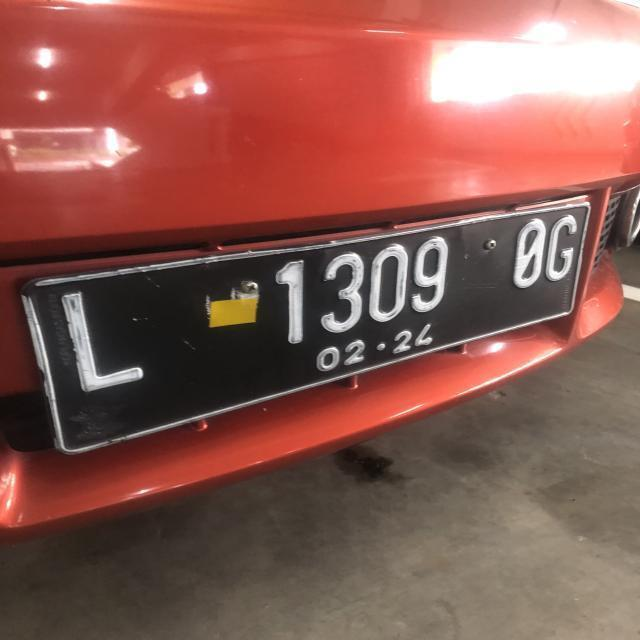0: (368, 244, 408, 324)
1: (275, 260, 312, 347)
3: (320, 253, 364, 334)
9: (409, 237, 454, 313)
G: (546, 210, 582, 288)
L: (58, 290, 148, 392)
O: (509, 218, 548, 288)
